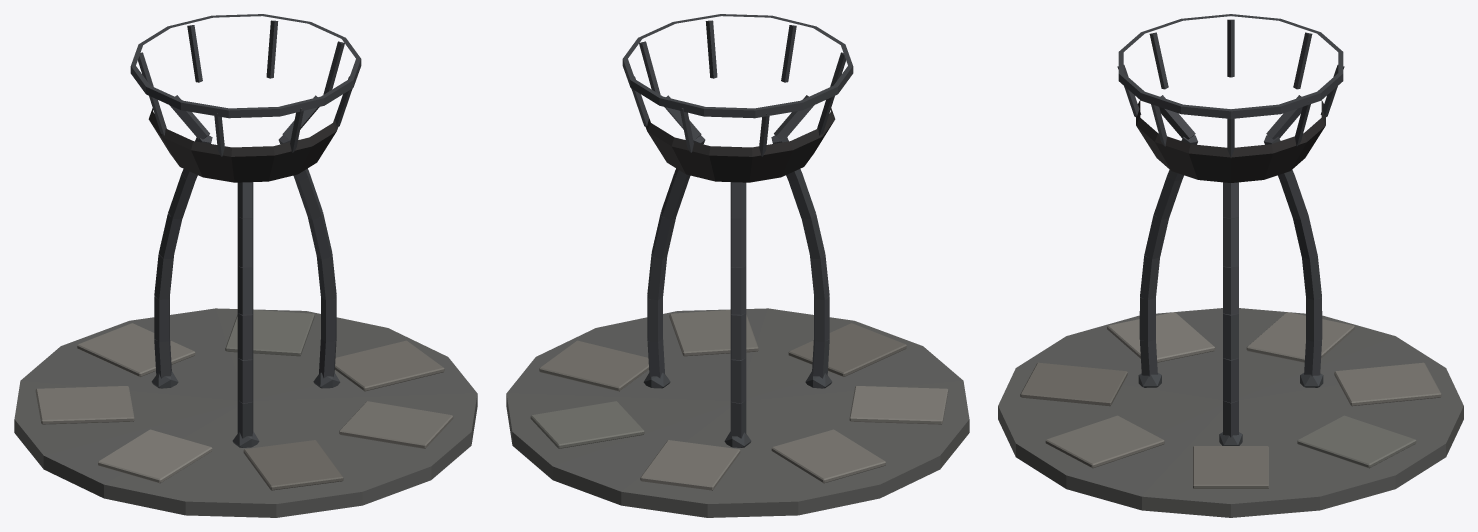
Rendered from DecorBrazier.glb.
The picture shows the model from 3 angles, left to right: view 1: azimuth 30°, elevation 25°; view 2: azimuth 150°, elevation 25°; view 3: azimuth 270°, elevation 25°; orthographic projection.
Visible parts, largest first — view 1: Mat_Stone_575653, Mat_Metal_424448, Mat_Stone_7b7872; view 2: Mat_Stone_575653, Mat_Metal_424448, Mat_Stone_7b7872; view 3: Mat_Stone_575653, Mat_Metal_424448, Mat_Stone_7b7872.
Part boxes in pixels (x1,y1,x2,y2): Mat_Stone_575653: (14,108,477,517); Mat_Metal_424448: (130,14,361,447); Mat_Stone_7b7872: (35,323,453,483); Mat_Stone_575653: (506,108,969,517); Mat_Metal_424448: (622,14,853,447); Mat_Stone_7b7872: (539,310,948,490); Mat_Stone_575653: (998,100,1463,517); Mat_Metal_424448: (1117,14,1344,445); Mat_Stone_7b7872: (1045,312,1441,488).
Bounding box in the file's own units: 5.5 × 4.65 × 5.5.
Materials: 1 (1 with a texture image).
